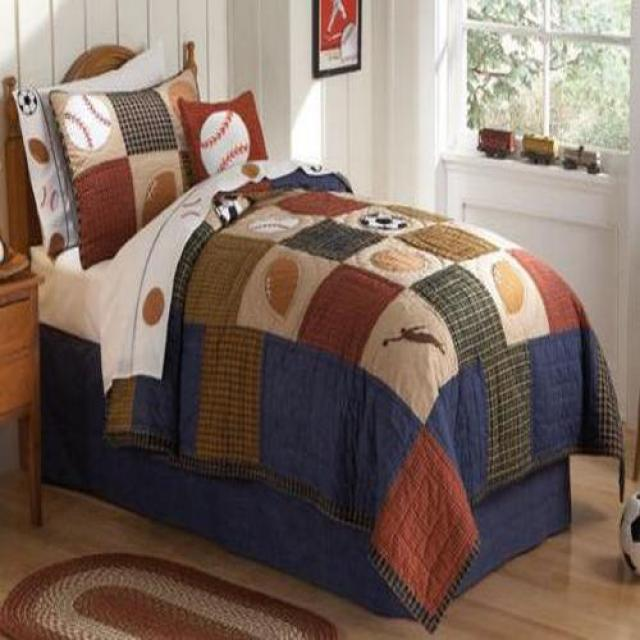bed: (0, 41, 623, 634)
